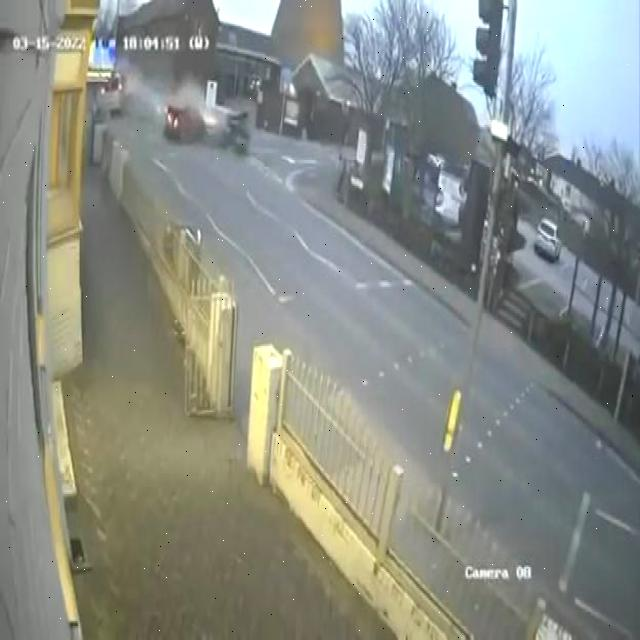accident: (158, 79, 252, 171)
